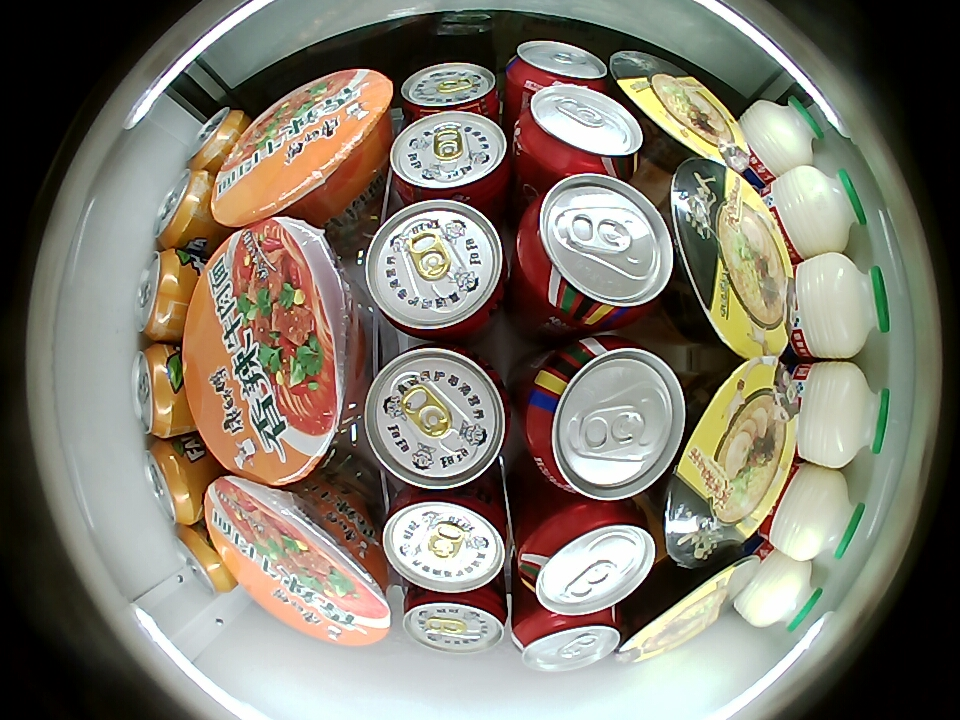fenda: (153, 168, 213, 250), (144, 439, 201, 525), (134, 250, 188, 340), (131, 345, 183, 438), (174, 524, 233, 596), (186, 107, 245, 171)
kele: (524, 336, 688, 501), (517, 172, 675, 328), (518, 501, 657, 616), (517, 84, 644, 175), (513, 609, 621, 672), (507, 41, 609, 94)
liziyuan: (796, 253, 892, 360), (799, 361, 891, 468), (768, 465, 868, 562), (771, 165, 868, 257), (734, 548, 825, 634), (742, 96, 823, 176)
tangdaren2: (662, 357, 799, 570), (666, 157, 795, 358), (611, 50, 752, 171), (617, 555, 752, 666)
wangzainiunai: (362, 343, 511, 490), (361, 198, 509, 341), (381, 483, 508, 593), (388, 112, 513, 210), (401, 582, 507, 655), (400, 61, 501, 125)
xianglaniurou: (184, 220, 356, 485), (206, 479, 389, 647), (211, 69, 393, 227)
